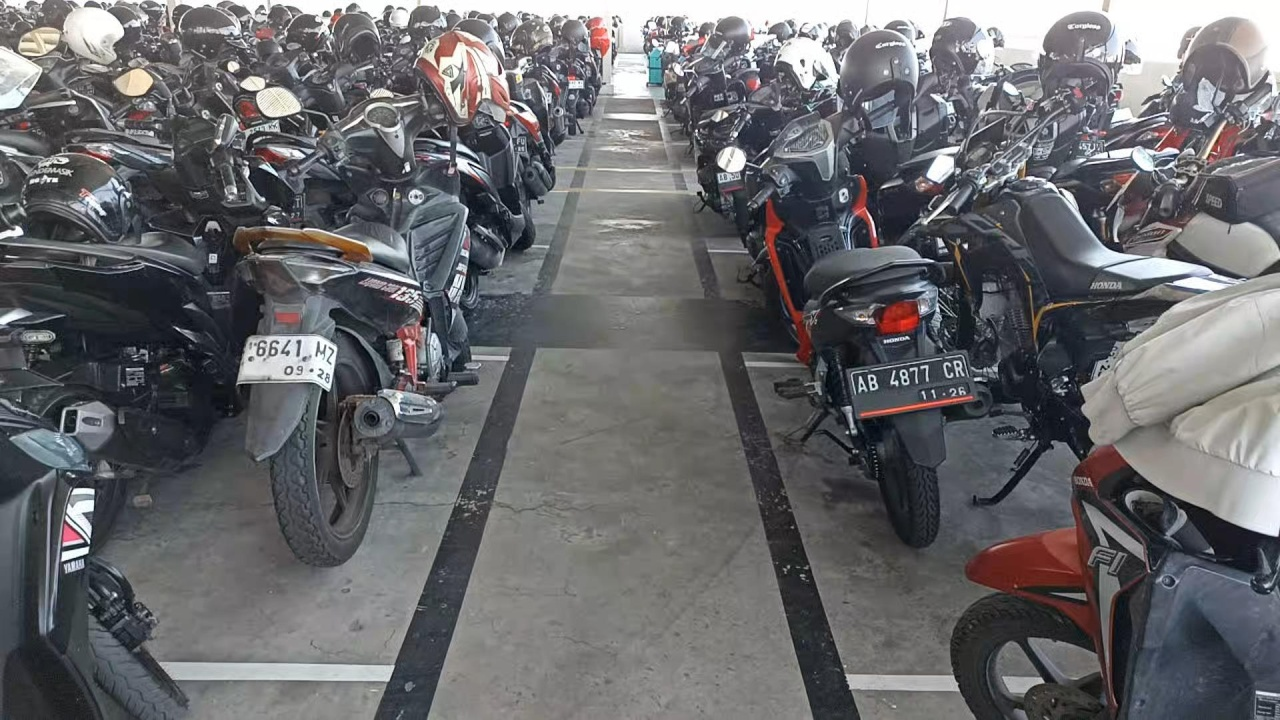plate: (849, 352, 979, 418), (236, 335, 338, 392)
